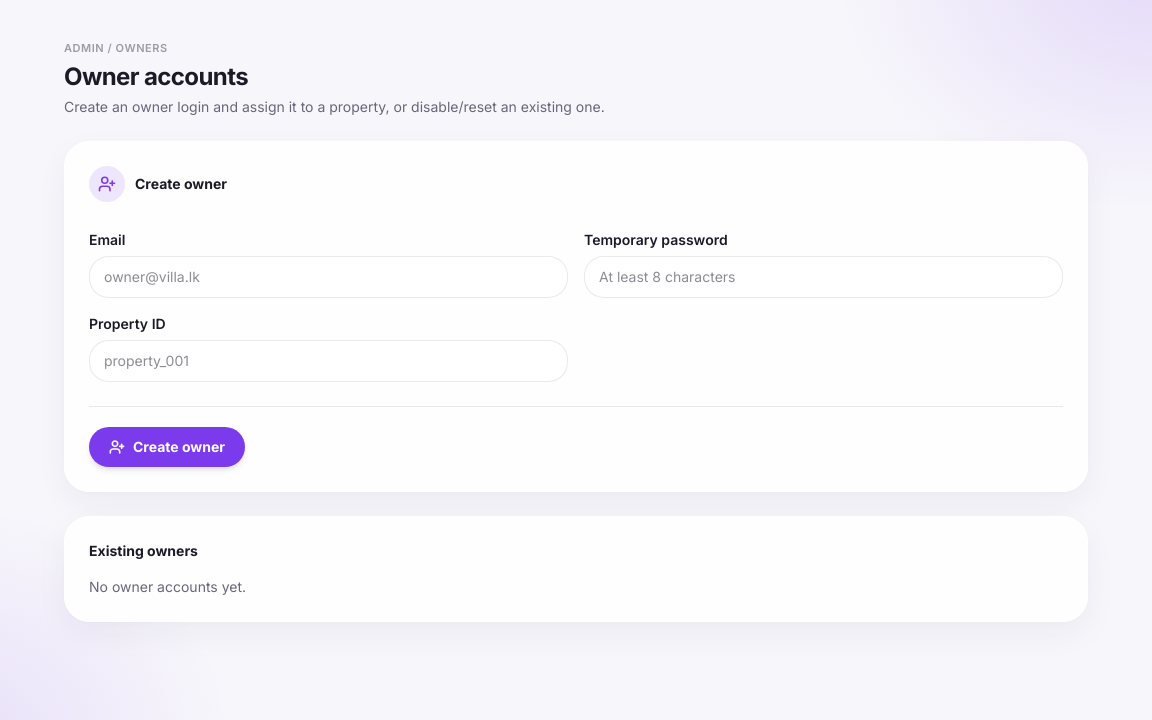
AdminOwners › surfaces a create error and keeps the form
This screenshot has width=1152, height=720.
expect the text "No owner accounts yet." is shown: met, box [89,578,246,594]
Type "dup@villa.lk" into the field labelled "Email" at (328, 276), box [89,256,568,298]
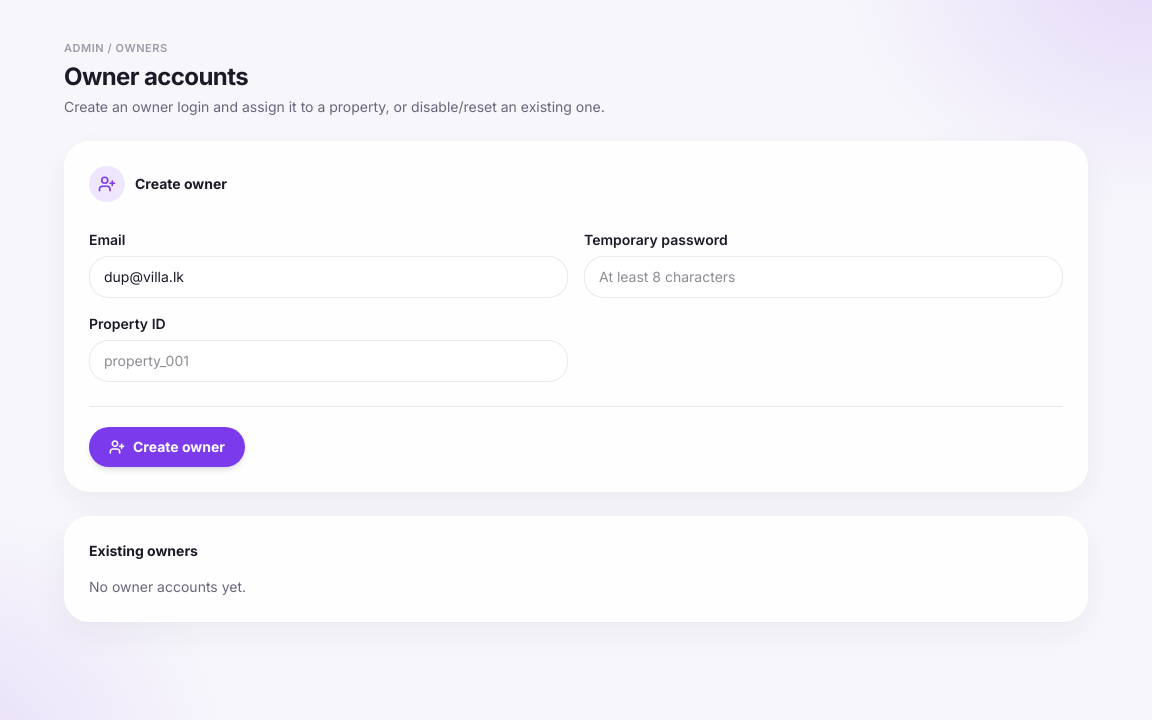
Type "brand-new-pass" into the password field labelled "Temporary password" at (824, 276), box [584,256,1063,298]
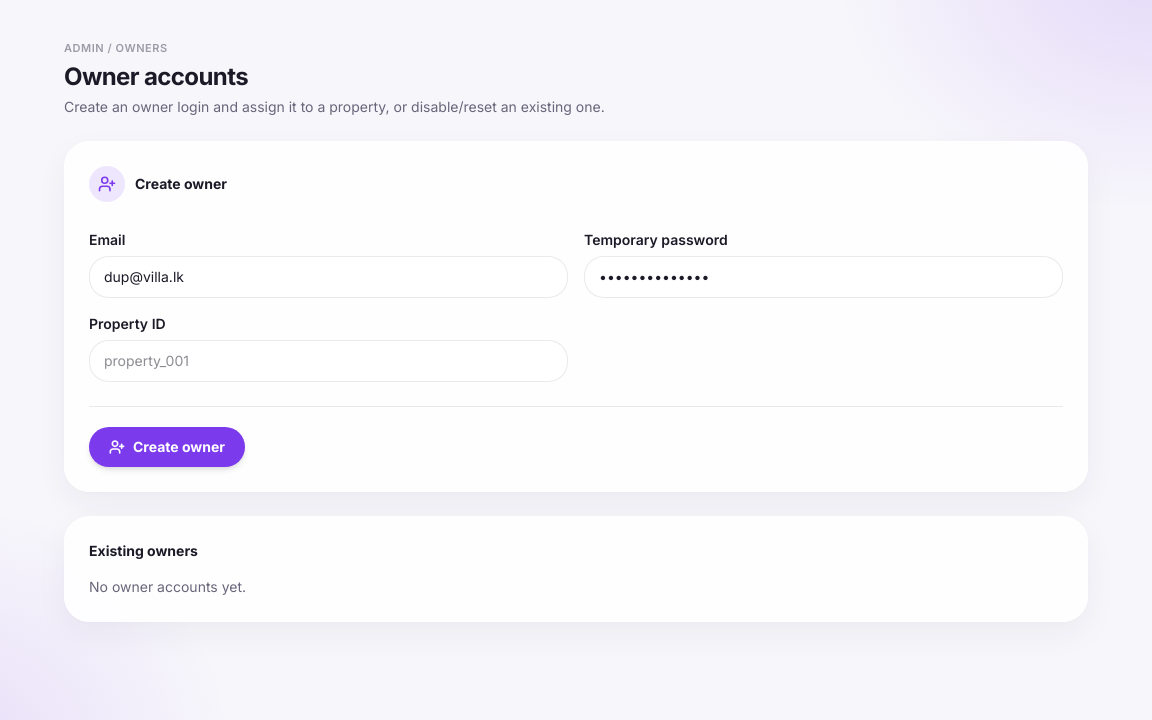
Type "property_002" into the field labelled "Property ID" at (328, 360), box [89,340,568,382]
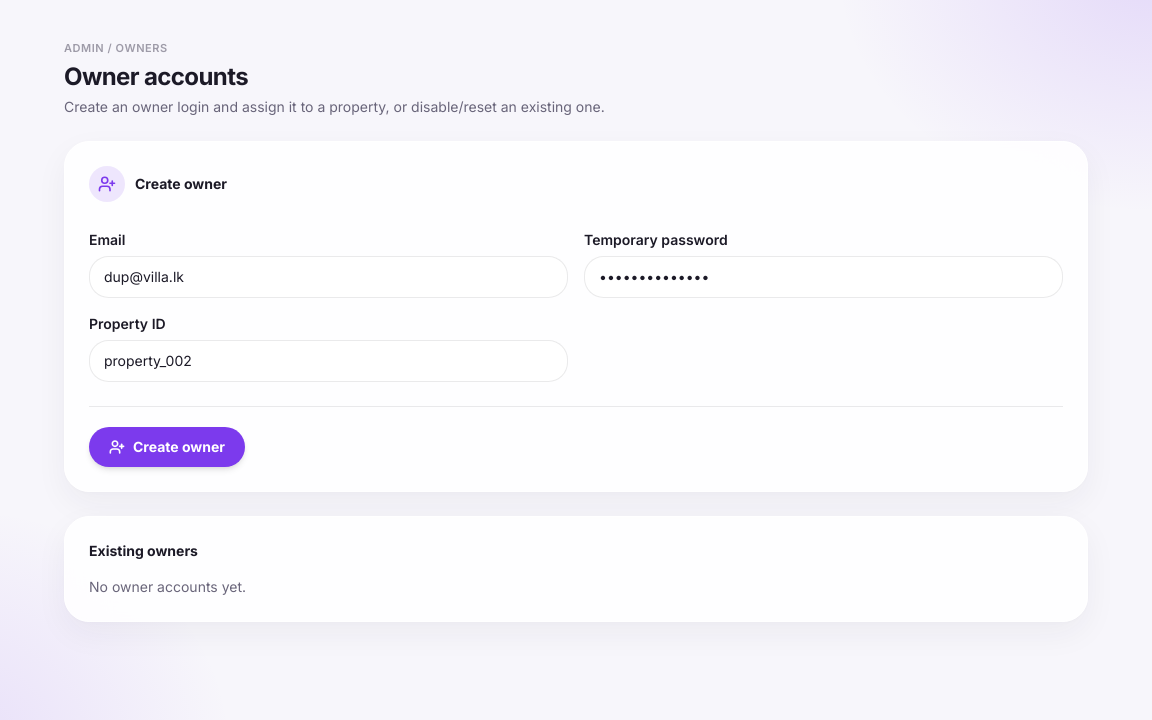
Click the button "Create owner" at (167, 446), box [89,426,245,466]
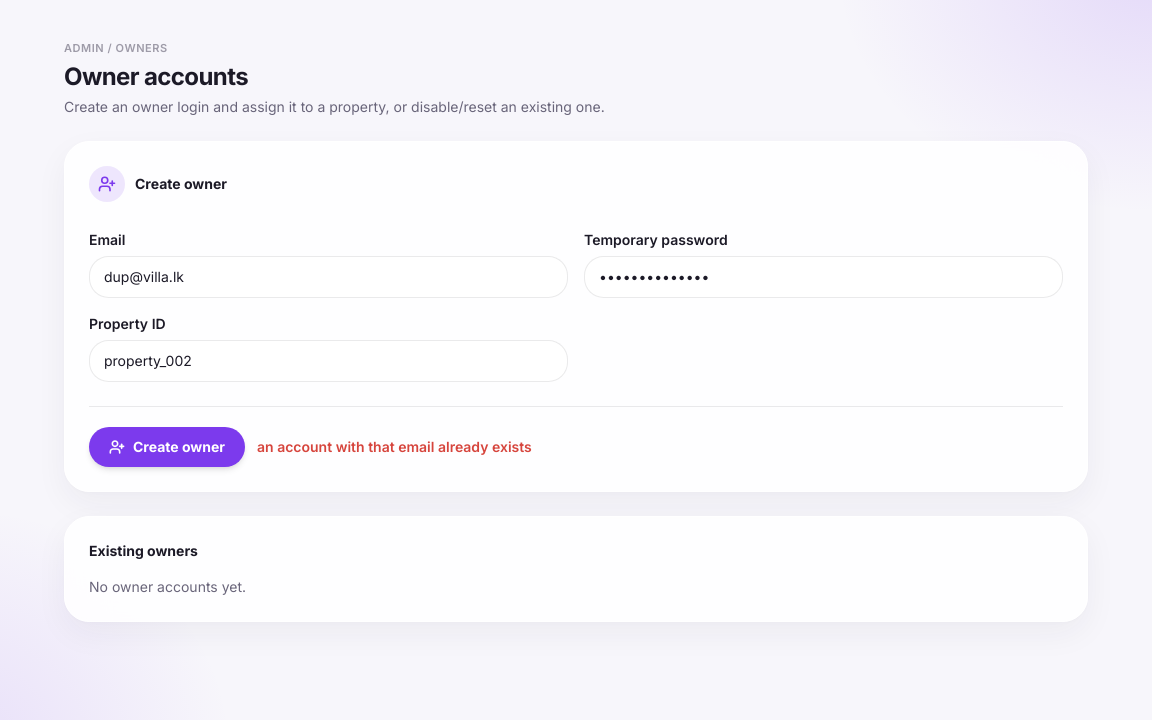
expect the message shows "already exists": met, box [257,438,532,454]
